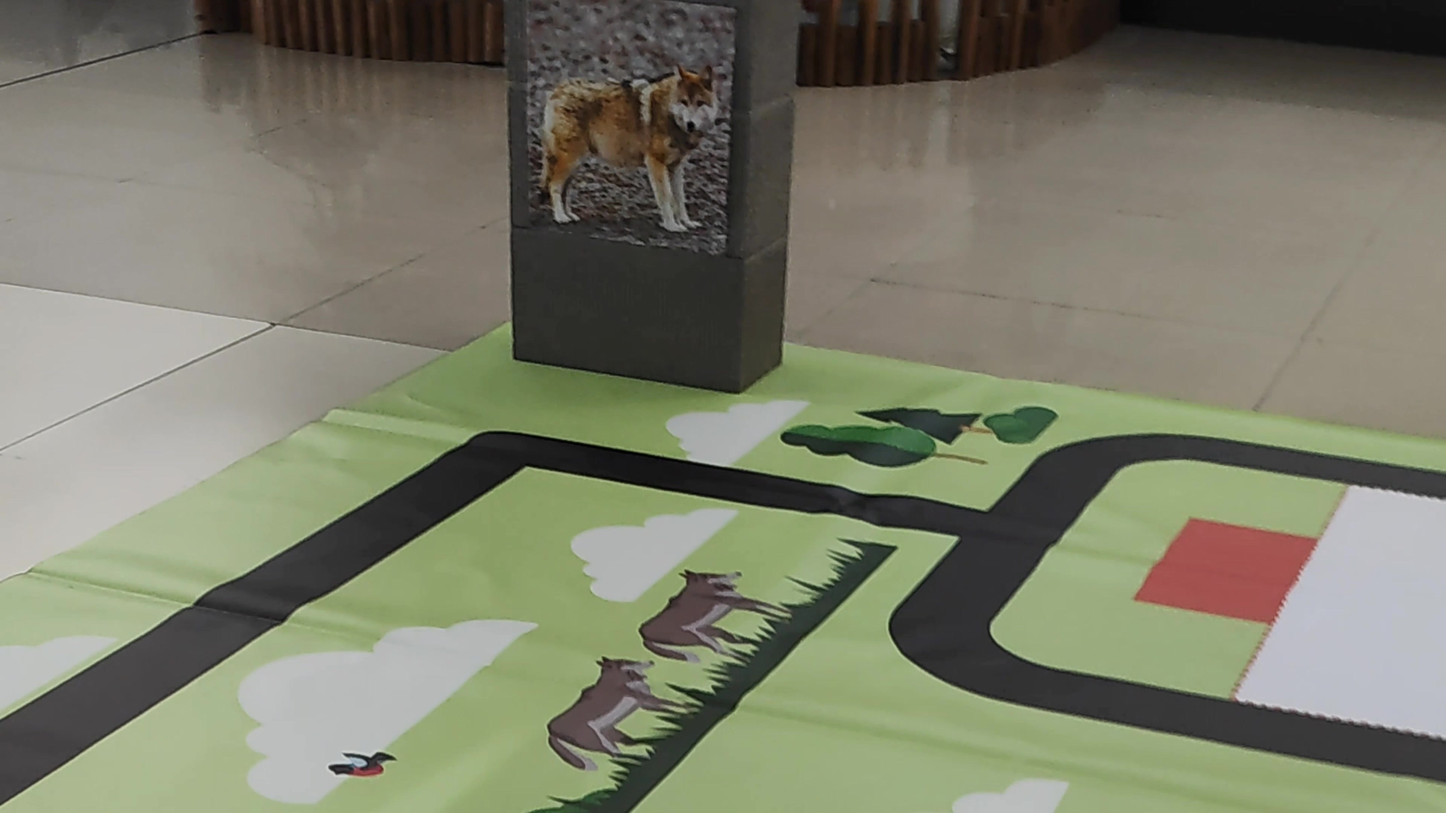wolf: (527, 12, 732, 247)
